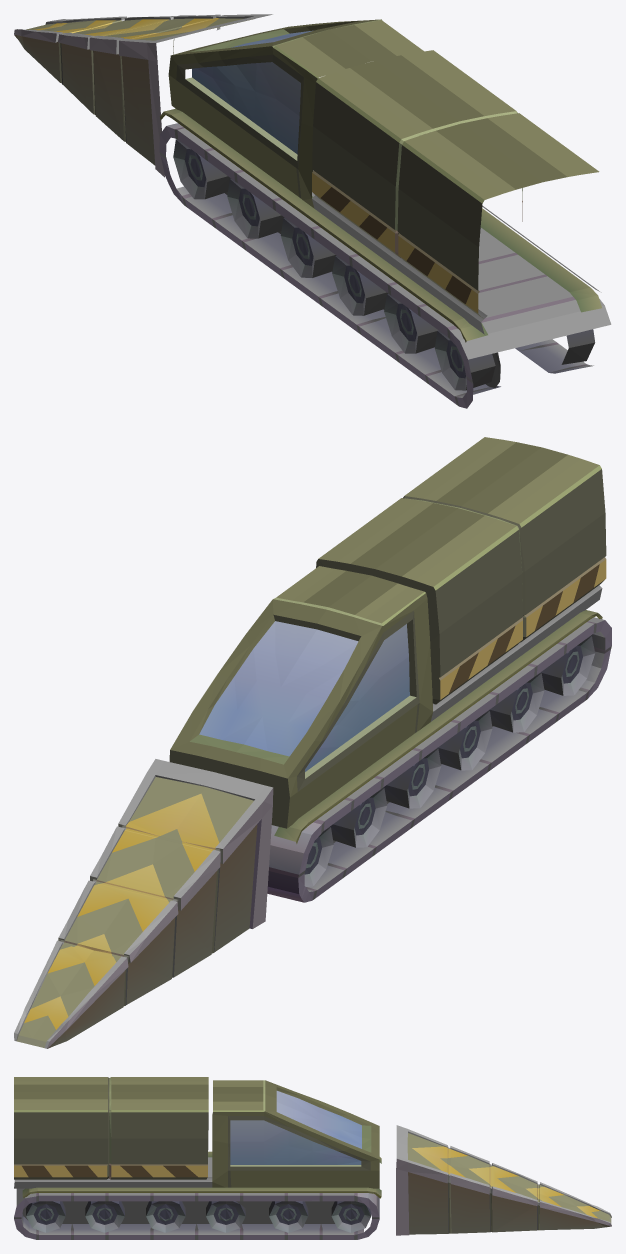
The model's file is hank1_ramp8_Plough01.glb.
3 views of the same model, one above another, from view 1: azimuth 30°, elevation 25°; view 2: azimuth 150°, elevation 25°; view 3: azimuth 270°, elevation 25° (orthographic). The views are drawn at different scales.
Parts seen in each view (by area): view 1: hank1_ramp8_Plough01; view 2: hank1_ramp8_Plough01; view 3: hank1_ramp8_Plough01.
Boxes of the visible parts, x1,y1,x2,y2 form: hank1_ramp8_Plough01: (14, 14, 611, 408); hank1_ramp8_Plough01: (14, 437, 611, 1048); hank1_ramp8_Plough01: (14, 1077, 611, 1239).
Bounding box in the file's own units: 1.3 × 1.91 × 7.86.
